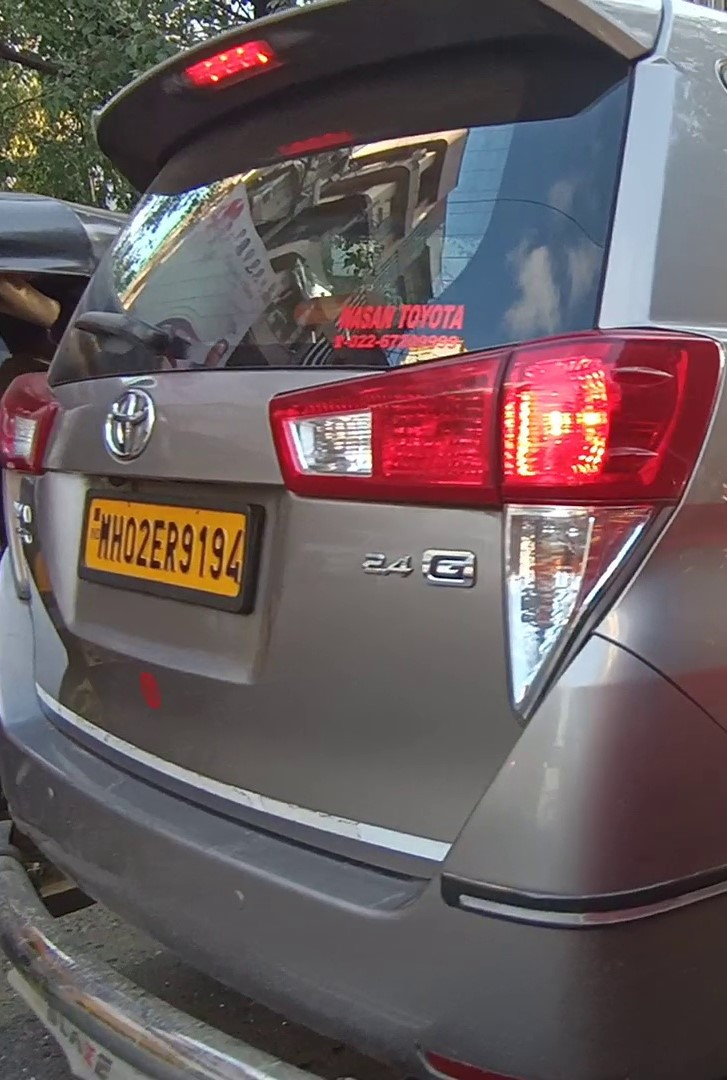MH02ER9194: (82, 496, 248, 602)
